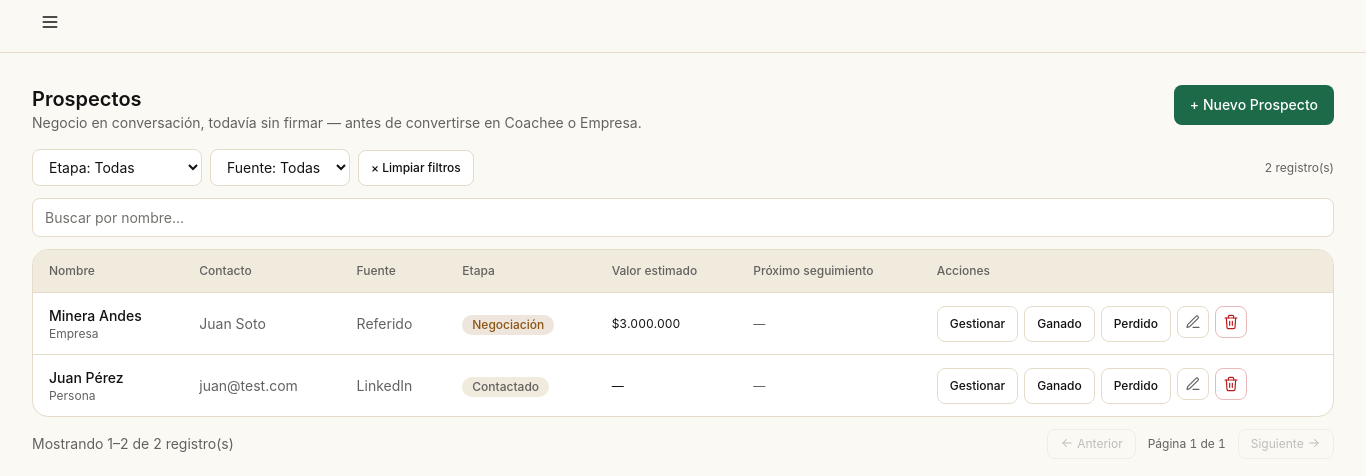
Test: ProspectosView › filters by etapa
Select "Contactado" in the dropdown named "Filtrar por etapa". click: (117, 168)
box: [32,149,202,186]
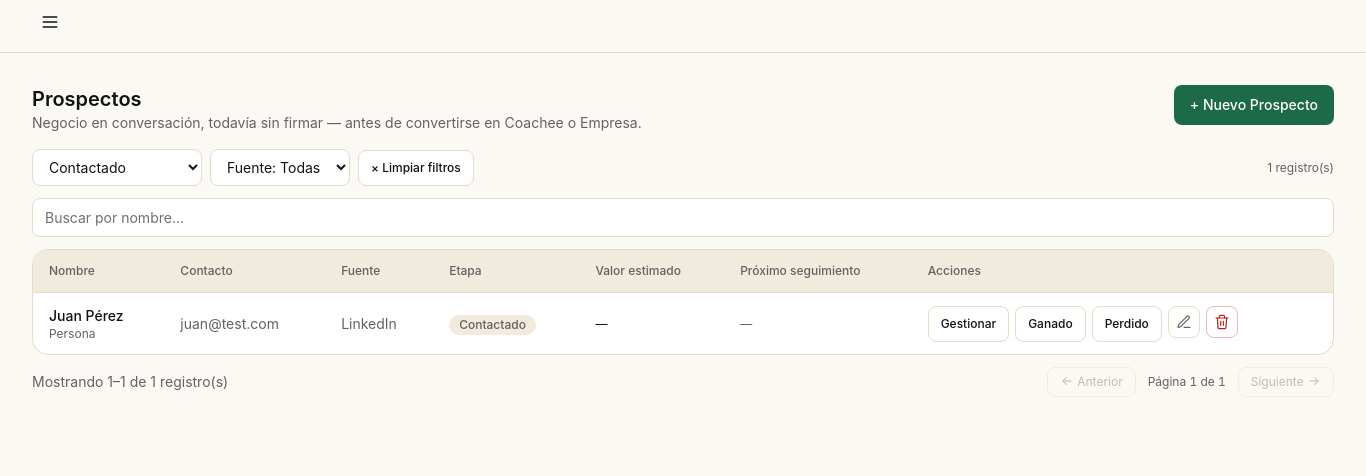
Expected: the text "Juan Pérez" is shown, [49,307,124,324]
Expected: the text "Minera Andes" is gone
